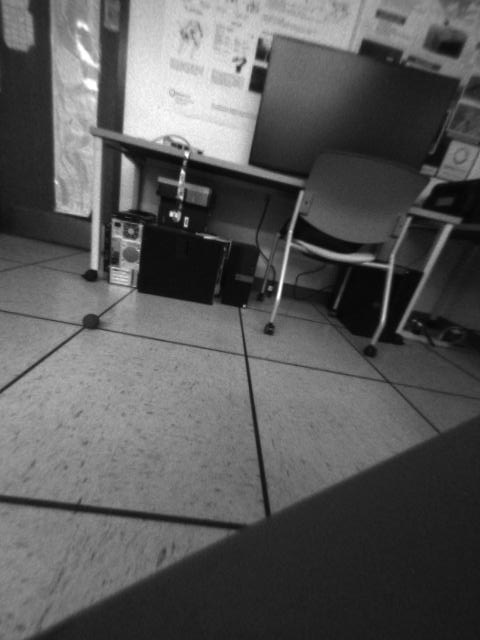dogtoy: (75, 306, 109, 337)
